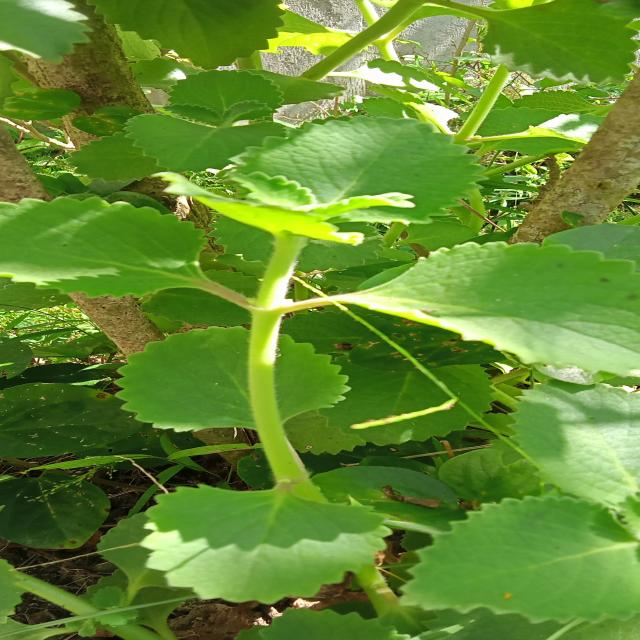Oregano: (131, 68, 496, 246), (339, 240, 640, 380), (134, 480, 390, 605), (118, 322, 366, 436)
